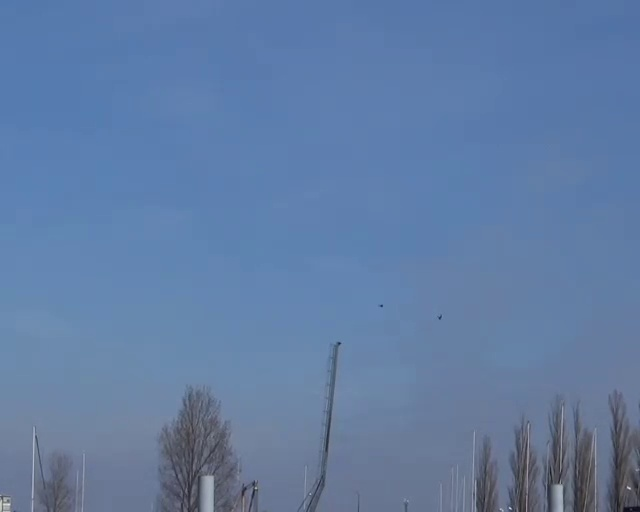BIRD: (377, 302, 385, 309)
